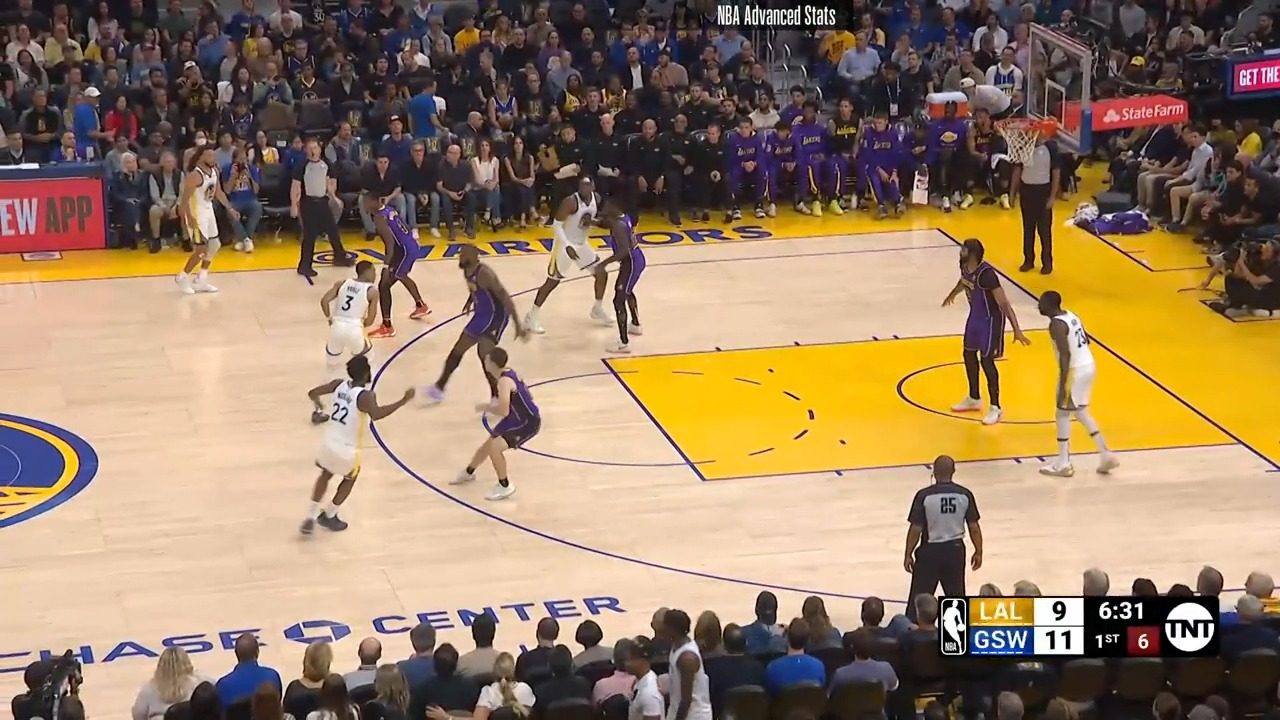net: (993, 110, 1060, 177)
player: (300, 353, 417, 539), (425, 233, 529, 423), (937, 238, 1027, 426), (1034, 290, 1121, 484), (458, 340, 550, 504), (524, 176, 611, 330), (312, 255, 391, 407), (358, 182, 438, 331), (169, 148, 238, 298), (587, 195, 651, 355)
referee: (902, 451, 992, 608), (293, 140, 354, 284), (1008, 128, 1061, 279)
